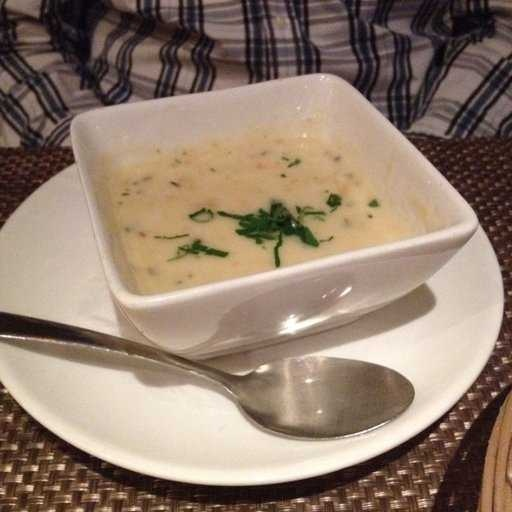soup: (61, 71, 439, 332)
